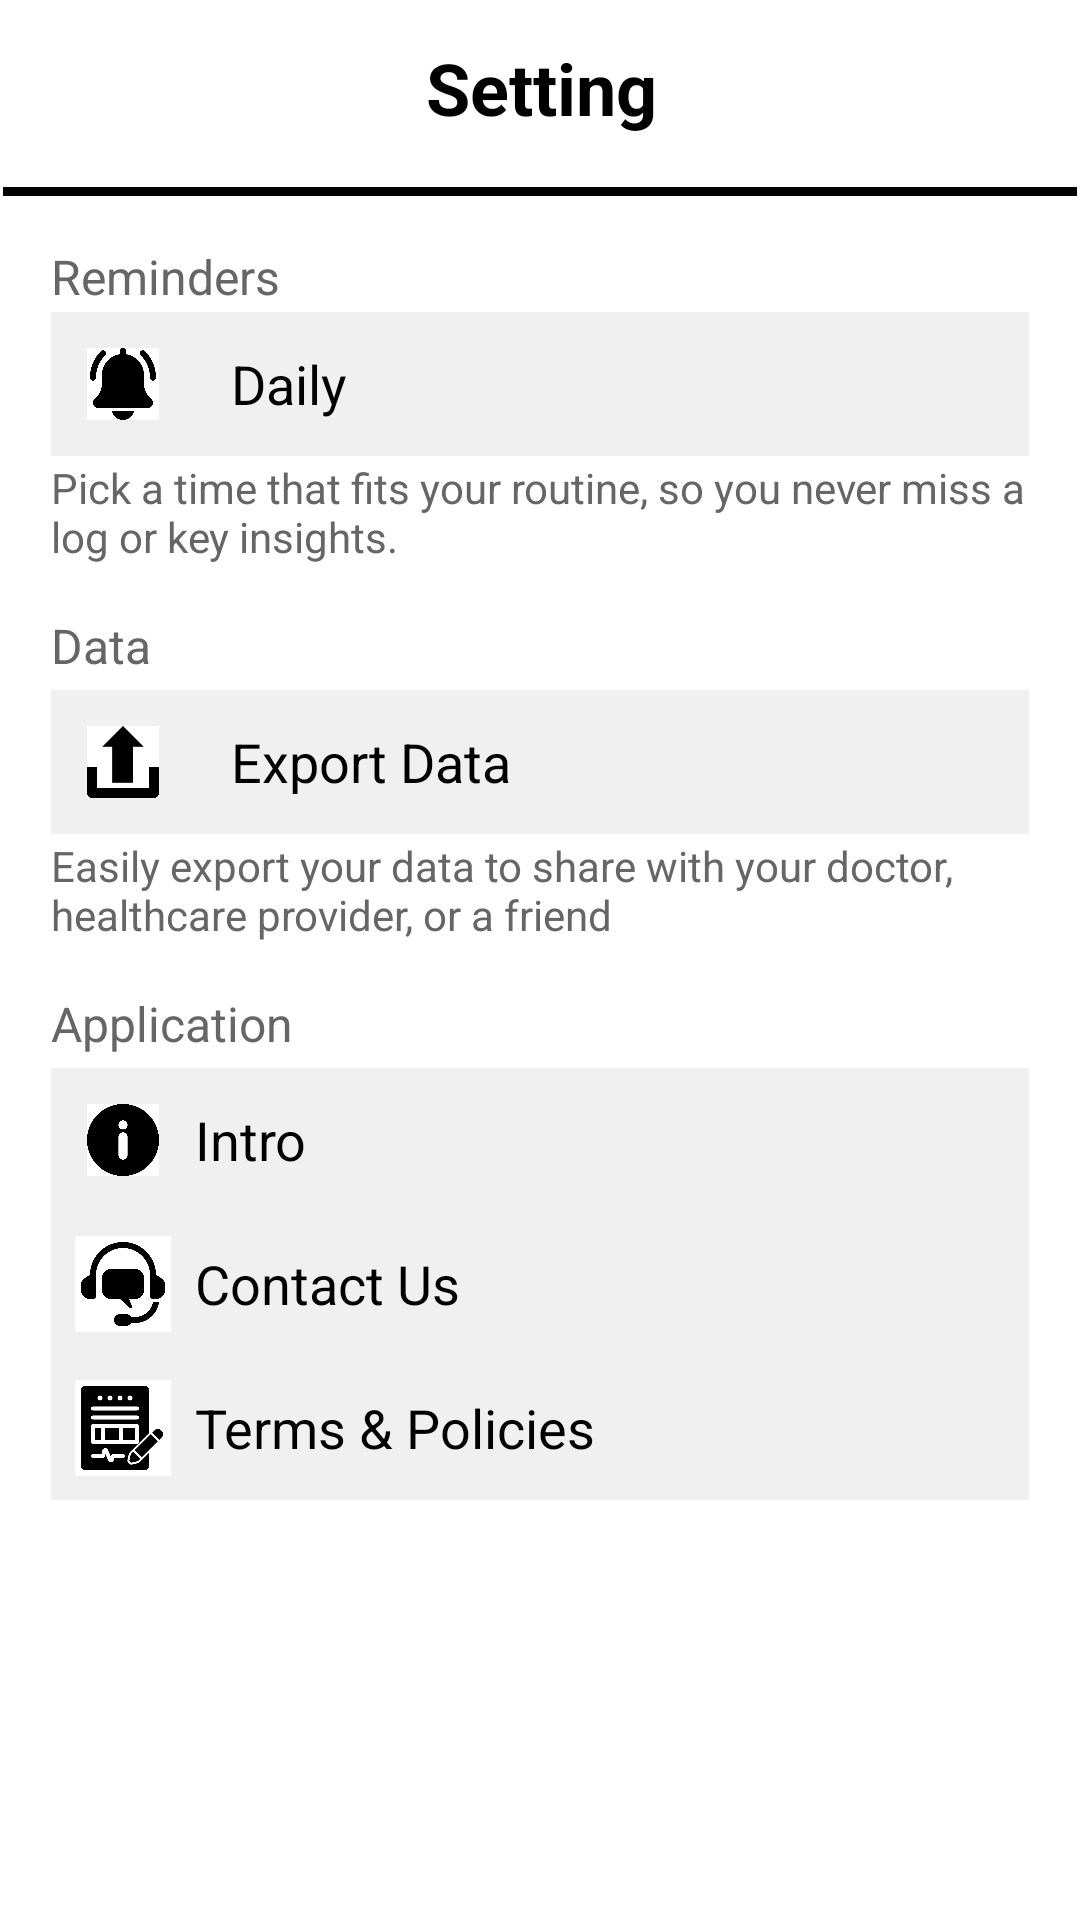

Icons on this 1080px×1920px Android screen, each with the point to tap as (x,y):
customer service: (123,1284)
info: (123,1140)
Reminder Icon: (123,384)
